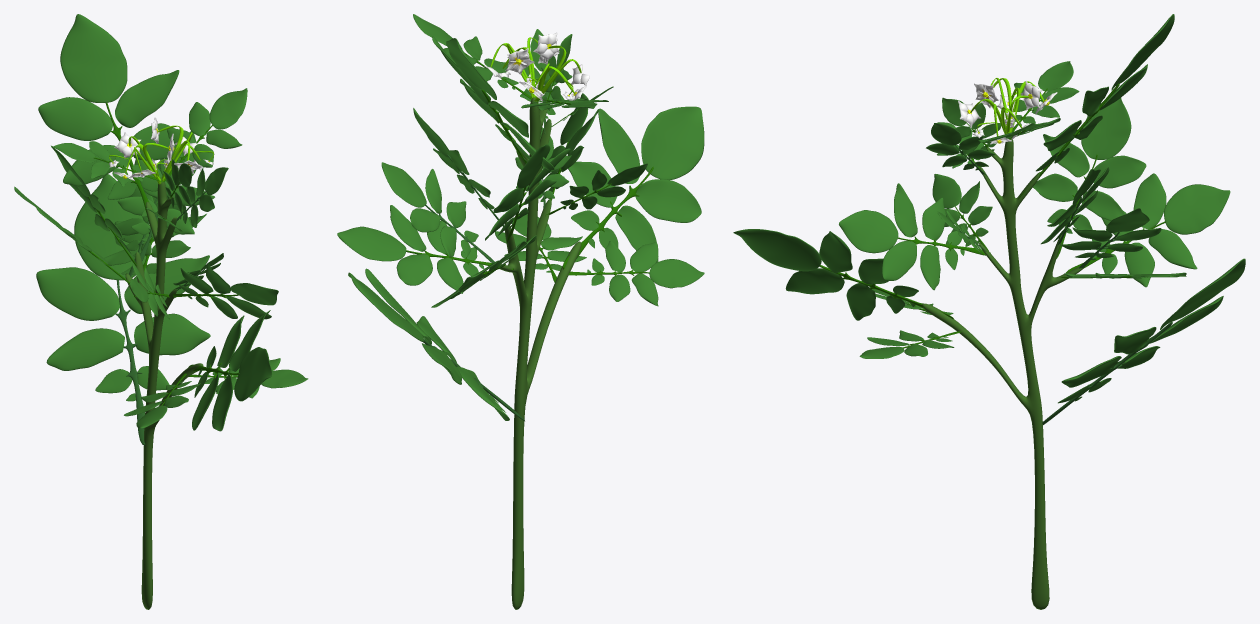
The model's file is potato_4.glb.
3 views of the same model, side by side, from view 1: azimuth 30°, elevation 25°; view 2: azimuth 150°, elevation 25°; view 3: azimuth 270°, elevation 25° (orthographic). The views are drawn at different scales.
Visible parts, largest first — view 1: Plane, Plane.028, Plane.236, Plane.001, Plane.137, Plane.138, Plane.238, Plane.030, Plane.239, Plane.237, Plane.010, Plane.046 (+20 smaller); view 2: Plane, Plane.010, Plane.011, Plane.073, Plane.012, Plane.004, Plane.019, Plane.013, Plane.262, Plane.014, Plane.003, Plane.001 (+11 smaller); view 3: Plane, Plane.002, Plane.109, Plane.173, Plane.055, Plane.001, Plane.003, Plane.219, Plane.056, Plane.065, Plane.012, Plane.218 (+15 smaller).
Boxes of the visible parts, x1,y1,x2,y2 form: Plane: [125, 177, 203, 609]; Plane.028: [60, 14, 126, 102]; Plane.236: [36, 267, 119, 320]; Plane.001: [74, 174, 150, 280]; Plane.137: [60, 14, 127, 102]; Plane.138: [38, 97, 112, 140]; Plane.238: [46, 328, 124, 370]; Plane.030: [115, 70, 179, 127]; Plane.239: [134, 313, 210, 355]; Plane.237: [124, 255, 209, 313]; Plane.010: [234, 347, 272, 401]; Plane.046: [209, 88, 247, 129]; Plane: [499, 97, 581, 609]; Plane.010: [641, 106, 704, 179]; Plane.011: [635, 179, 701, 222]; Plane.073: [337, 226, 406, 261]; Plane.012: [598, 108, 639, 183]; Plane.004: [598, 108, 639, 183]; Plane.019: [649, 259, 704, 288]; Plane.013: [615, 205, 658, 262]; Plane.262: [381, 162, 426, 207]; Plane.014: [568, 161, 616, 207]; Plane.003: [636, 179, 701, 222]; Plane.001: [348, 272, 423, 341]; Plane: [922, 138, 1084, 609]; Plane.002: [733, 229, 821, 271]; Plane.109: [1164, 184, 1229, 234]; Plane.173: [1081, 98, 1131, 159]; Plane.055: [839, 210, 898, 253]; Plane.001: [1160, 258, 1245, 329]; Plane.003: [785, 268, 844, 294]; Plane.219: [1133, 173, 1166, 229]; Plane.056: [882, 241, 916, 280]; Plane.065: [1093, 156, 1143, 188]; Plane.012: [819, 231, 852, 272]; Plane.218: [1166, 184, 1230, 234].
Bounding box in the file's own units: 0.468 × 1.34 × 1.05.
